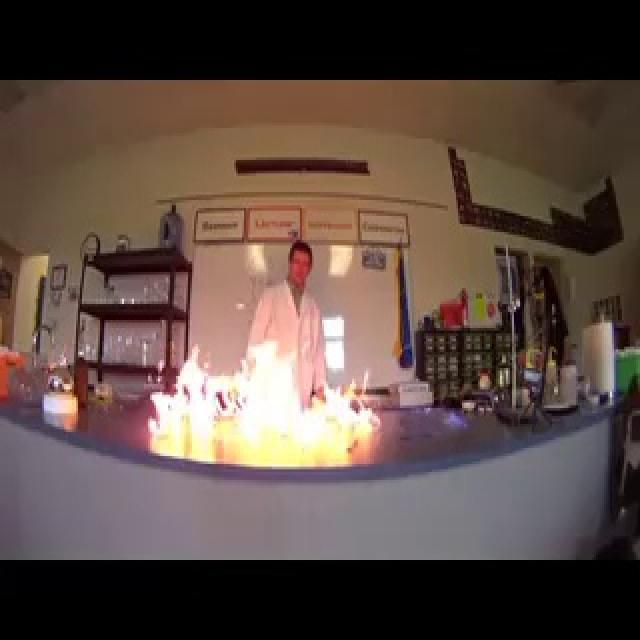fire: (144, 331, 382, 449)
